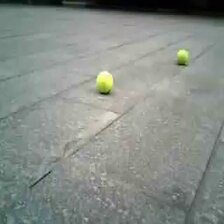tennis: (96, 70, 112, 92), (176, 49, 189, 64)
